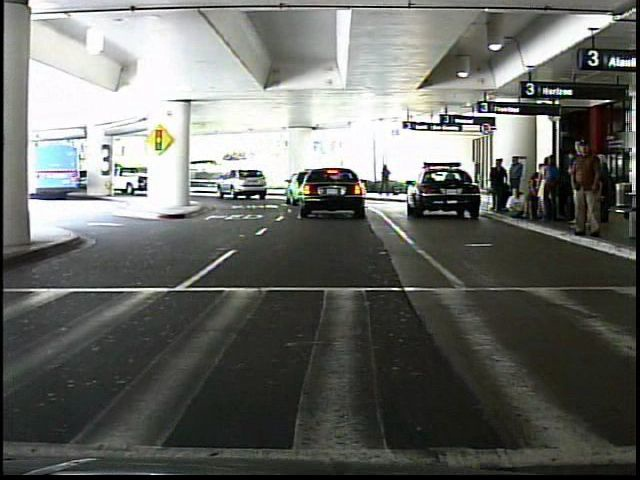person: (568, 137, 607, 242), (486, 158, 509, 215), (380, 163, 394, 198)
